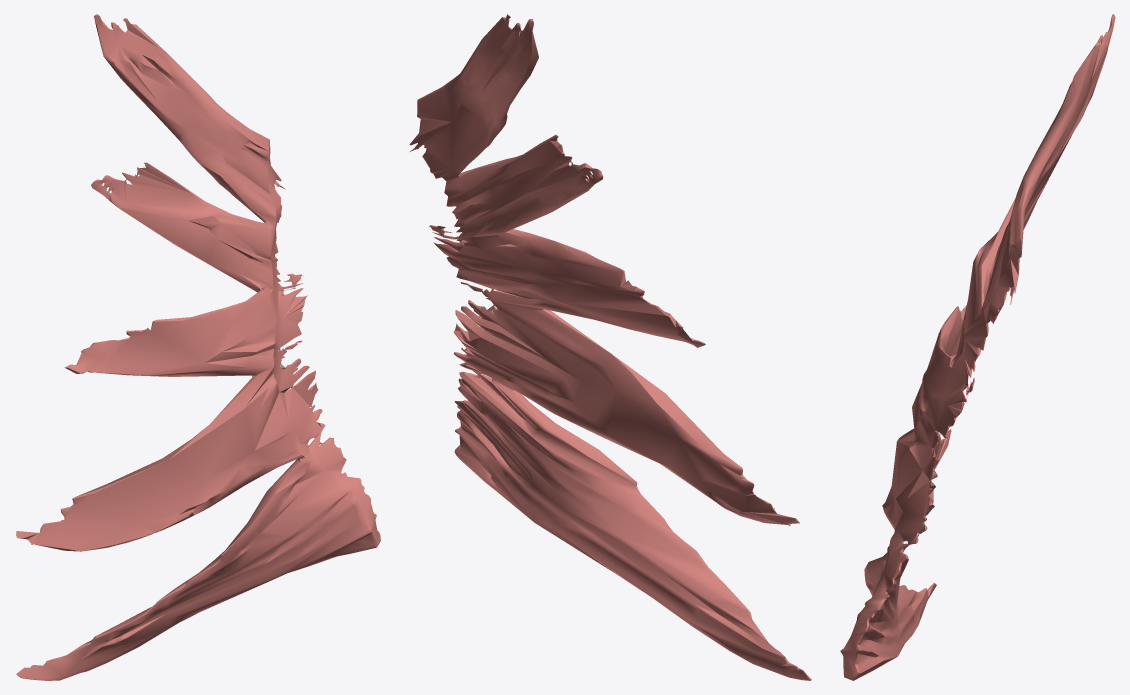
Rendered from fma9761_fj1461.glb.
3 renders of one model, left to right at view 1: azimuth 30°, elevation 25°; view 2: azimuth 150°, elevation 25°; view 3: azimuth 270°, elevation 25°, orthographic. The views are drawn at different scales.
Visible parts, largest first — view 1: FMA9761_FJ1461; view 2: FMA9761_FJ1461; view 3: FMA9761_FJ1461.
Part boxes in pixels (x1,y1,x2,y2): FMA9761_FJ1461: (16, 14, 380, 680); FMA9761_FJ1461: (409, 14, 811, 680); FMA9761_FJ1461: (840, 14, 1115, 680).
Size of the model in its own units: 0.0872 by 0.145 by 0.054.
